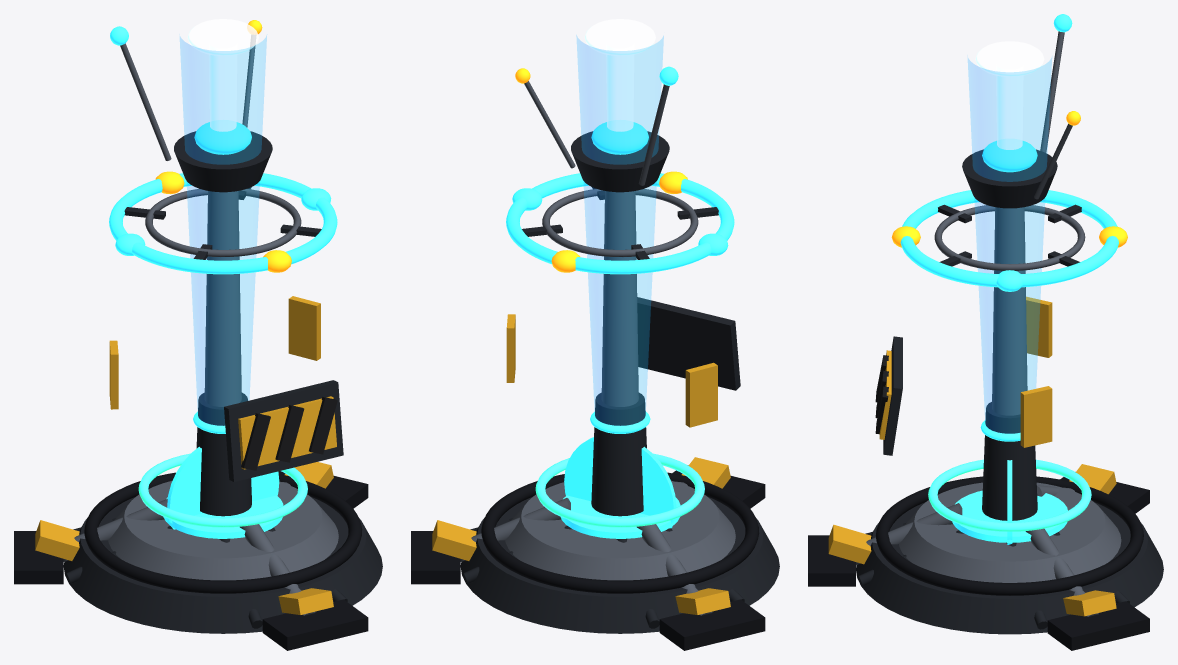
File: evac-beacon.glb
The picture shows the model from 3 angles, left to right: view 1: azimuth 30°, elevation 25°; view 2: azimuth 150°, elevation 25°; view 3: azimuth 270°, elevation 25°; orthographic projection. The views are drawn at different scales.
Parts seen in each view (by area): view 1: BeamAura, LowerCircularBase, RaisedCentralDisk, UpperMastCore, OuterShockRing, FootPad (×3), RotatingHaloRing, PanelBackPlate, TopSignalCap, LowerMastSleeve, ToeHazardCap (×3), SuccessStatusLights (+15 smaller); view 2: BeamAura, LowerCircularBase, RaisedCentralDisk, UpperMastCore, PanelBackPlate, OuterShockRing, FootPad (×3), LowerMastSleeve, RotatingHaloRing, TopSignalCap, ToeHazardCap (×3), ActiveStatusLights (+12 smaller); view 3: BeamAura, LowerCircularBase, RaisedCentralDisk, OuterShockRing, UpperMastCore, FootPad (×3), RotatingHaloRing, LowerMastSleeve, TopSignalCap, ToeHazardCap (×3), SuccessStatusLights, BlueBaseLens (+9 smaller).
Part boxes in pixels (x1=…): BeamAura: x1=180, y1=36, x2=266, y2=425; LowerCircularBase: x1=63, y1=496, x2=382, y2=633; RaisedCentralDisk: x1=108, y1=480, x2=338, y2=580; UpperMastCore: x1=204, y1=191, x2=241, y2=406; OuterShockRing: x1=84, y1=472, x2=362, y2=593; FootPad (×3): x1=14, y1=471, x2=368, y2=650; RotatingHaloRing: x1=109, y1=173, x2=337, y2=274; PanelBackPlate: x1=224, y1=380, x2=343, y2=481; TopSignalCap: x1=174, y1=131, x2=272, y2=192; LowerMastSleeve: x1=196, y1=392, x2=251, y2=516; ToeHazardCap (×3): x1=35, y1=462, x2=333, y2=614; SuccessStatusLights: x1=138, y1=453, x2=307, y2=527; BeamAura: x1=576, y1=35, x2=663, y2=425; LowerCircularBase: x1=460, y1=496, x2=779, y2=633; RaisedCentralDisk: x1=505, y1=480, x2=735, y2=580; UpperMastCore: x1=601, y1=191, x2=638, y2=406; PanelBackPlate: x1=637, y1=297, x2=740, y2=390; OuterShockRing: x1=481, y1=472, x2=759, y2=593; FootPad (×3): x1=411, y1=465, x2=765, y2=650; LowerMastSleeve: x1=591, y1=392, x2=646, y2=516; RotatingHaloRing: x1=506, y1=173, x2=734, y2=274; TopSignalCap: x1=571, y1=131, x2=669, y2=192; ToeHazardCap (×3): x1=432, y1=457, x2=730, y2=614; ActiveStatusLights: x1=564, y1=437, x2=676, y2=528; BeamAura: x1=968, y1=58, x2=1051, y2=433; LowerCircularBase: x1=856, y1=502, x2=1163, y2=634; RaisedCentralDisk: x1=899, y1=482, x2=1121, y2=582; OuterShockRing: x1=875, y1=476, x2=1143, y2=595; UpperMastCore: x1=992, y1=207, x2=1027, y2=415; FootPad (×3): x1=808, y1=477, x2=1149, y2=650; RotatingHaloRing: x1=900, y1=190, x2=1118, y2=287; LowerMastSleeve: x1=982, y1=402, x2=1037, y2=520; TopSignalCap: x1=962, y1=149, x2=1057, y2=208; ToeHazardCap (×3): x1=828, y1=464, x2=1116, y2=616; SuccessStatusLights: x1=928, y1=459, x2=1091, y2=531; BlueBaseLens: x1=952, y1=490, x2=1067, y2=542.
Bounding box in the file's own units: 1.49 × 2.16 × 1.34.
